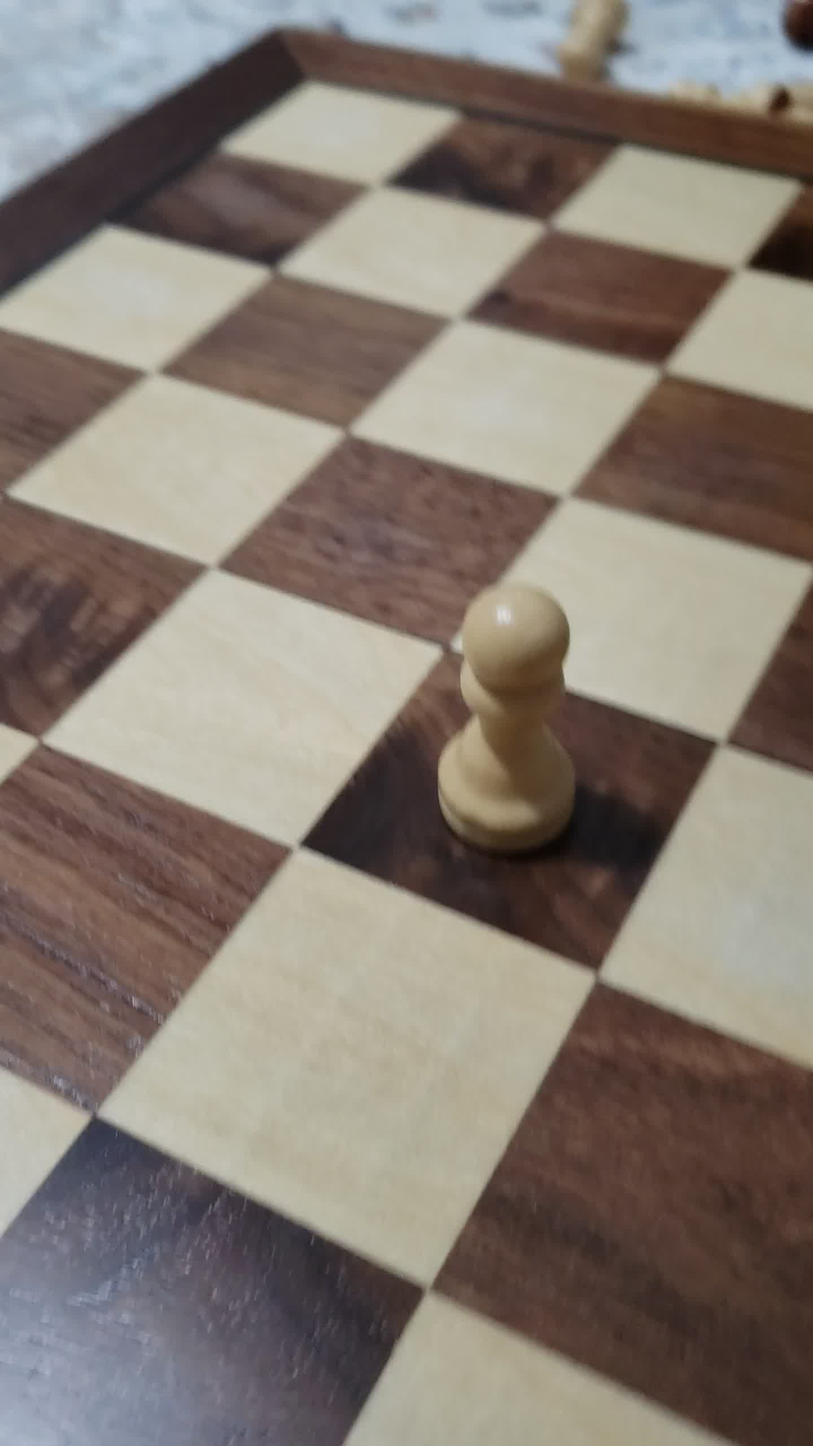white-pawn: (418, 565, 593, 881)
